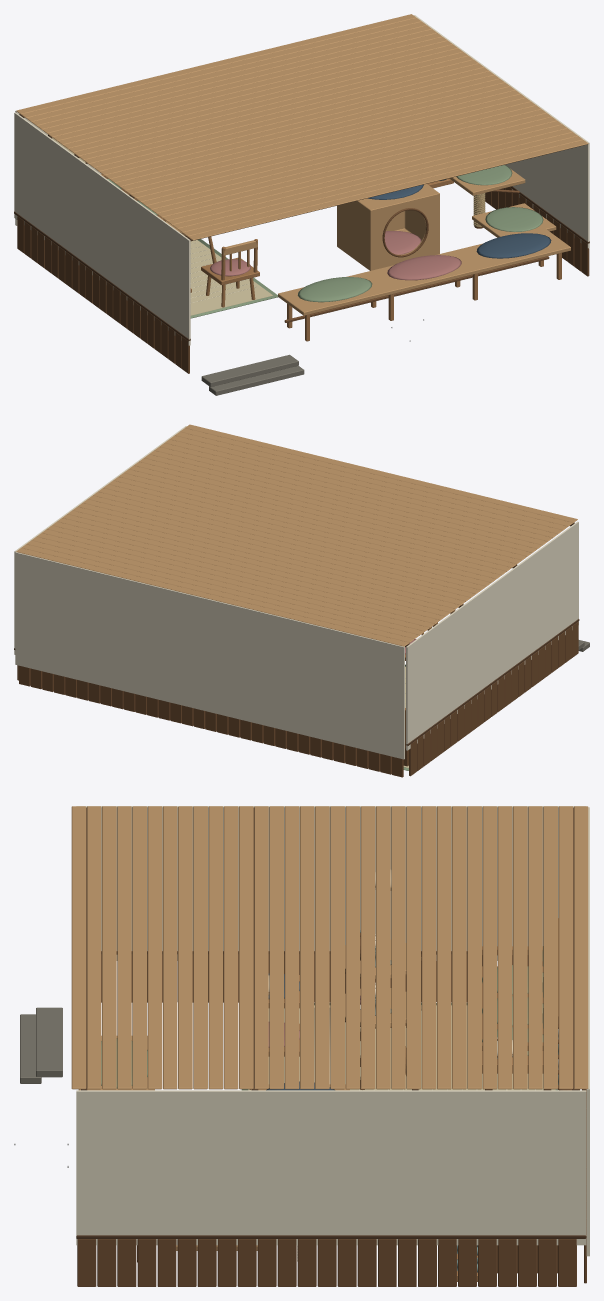
Rendered from japan_kit23_cat_cafe1.fbx.
3 renders of one model, top to bottom at view 1: azimuth 30°, elevation 25°; view 2: azimuth 150°, elevation 25°; view 3: azimuth 270°, elevation 25°, orthographic. The views are drawn at different scales.
Visible parts, largest first — view 1: C1_Ceiling_OakLight, C1_Lining_Wall, C1_Lining_OakDark, C1_Cubby_OakLight, C1_WindowBench_OakLight, C1_Rug_Rug, C1_Threshold_Stone, C1_WindowBeds_Indigo, C1_WindowBeds_Rose, C1_WindowBeds_SageSoft, C1_Chair1_Oak, C1_Climb0_SageSoft (+7 smaller); view 2: C1_Ceiling_OakLight, C1_Lining_Wall, C1_Lining_OakDark, C1_Lining_TimberEdge; view 3: C1_Ceiling_OakLight, C1_Lining_Wall, C1_Lining_OakDark, C1_Threshold_Stone, C1_Lining_TimberEdge, C1_Rug_Rug, C1_Ceiling_TimberEdge.
Part boxes in pixels (x1,y1,x2,y2): C1_Ceiling_OakLight: (16,14,588,240); C1_Lining_Wall: (14,15,589,345); C1_Lining_OakDark: (17,187,589,373); C1_Cubby_OakLight: (337,184,439,270); C1_WindowBench_OakLight: (278,228,570,315); C1_Rug_Rug: (190,240,272,315); C1_Threshold_Stone: (201,354,304,395); C1_WindowBeds_Indigo: (476,233,551,258); C1_WindowBeds_Rose: (387,255,461,280); C1_WindowBeds_SageSoft: (297,277,372,302); C1_Chair1_Oak: (201,239,259,307); C1_Climb0_SageSoft: (485,207,543,231); C1_Ceiling_OakLight: (16,424,577,646); C1_Lining_Wall: (14,426,578,759); C1_Lining_OakDark: (17,621,578,777); C1_Lining_TimberEdge: (14,619,579,745); C1_Ceiling_OakLight: (71,806,588,1089); C1_Lining_Wall: (76,806,589,1256); C1_Lining_OakDark: (77,954,586,1286); C1_Threshold_Stone: (20,1007,62,1083); C1_Lining_TimberEdge: (76,951,586,1238); C1_Rug_Rug: (248,1005,555,1090); C1_Ceiling_TimberEdge: (81,807,578,1090).
Size of the model in its own units: 25.37 by 8.73 by 21.57.
